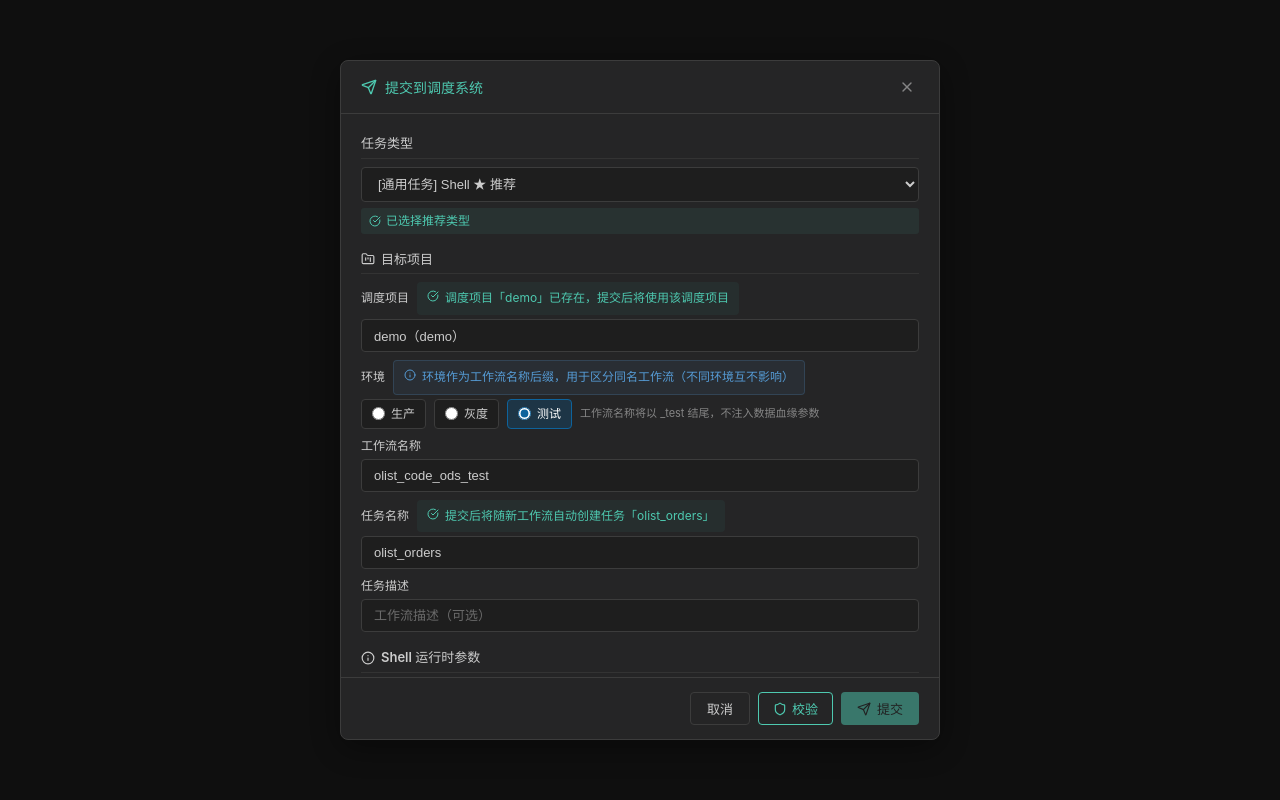
it: SubmitToSchedulerModal — 环境单选决定工作流名称后缀 › 切换环境后工作流名称换成对应后缀
This screenshot has width=1280, height=800.
Expected: the field with test id "submit-scheduler-workflow-name" holds "olist_code_ods_test", [361,459,919,492]
Click the radio button labelled "生产".
click(378, 414)  # box [372,407,385,420]
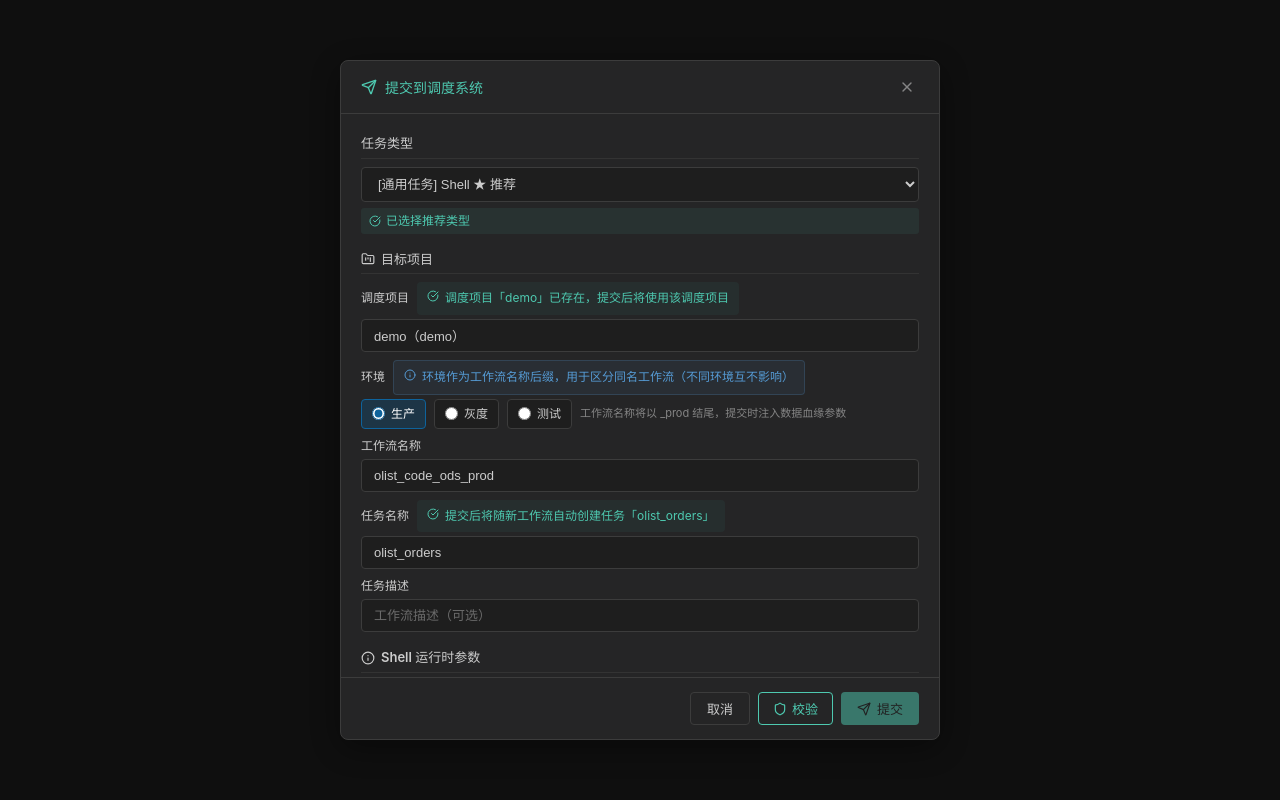
Expected: the field with test id "submit-scheduler-workflow-name" holds "olist_code_ods_prod", [361,459,919,492]
Click the radio button labelled "灰度".
click(452, 414)  # box [445,407,458,420]
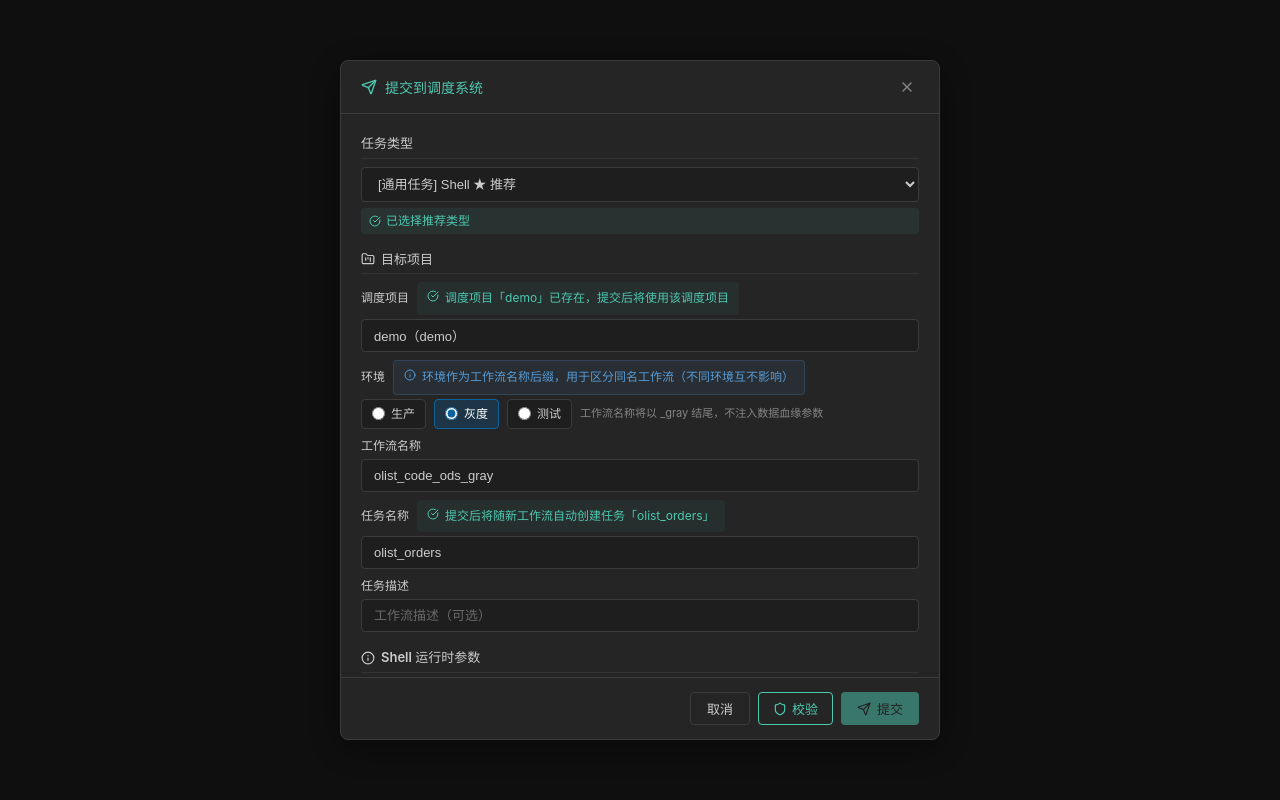
Expected: the field with test id "submit-scheduler-workflow-name" holds "olist_code_ods_gray", [361,459,919,492]
Click the radio button labelled "测试".
click(524, 414)  # box [518,407,531,420]
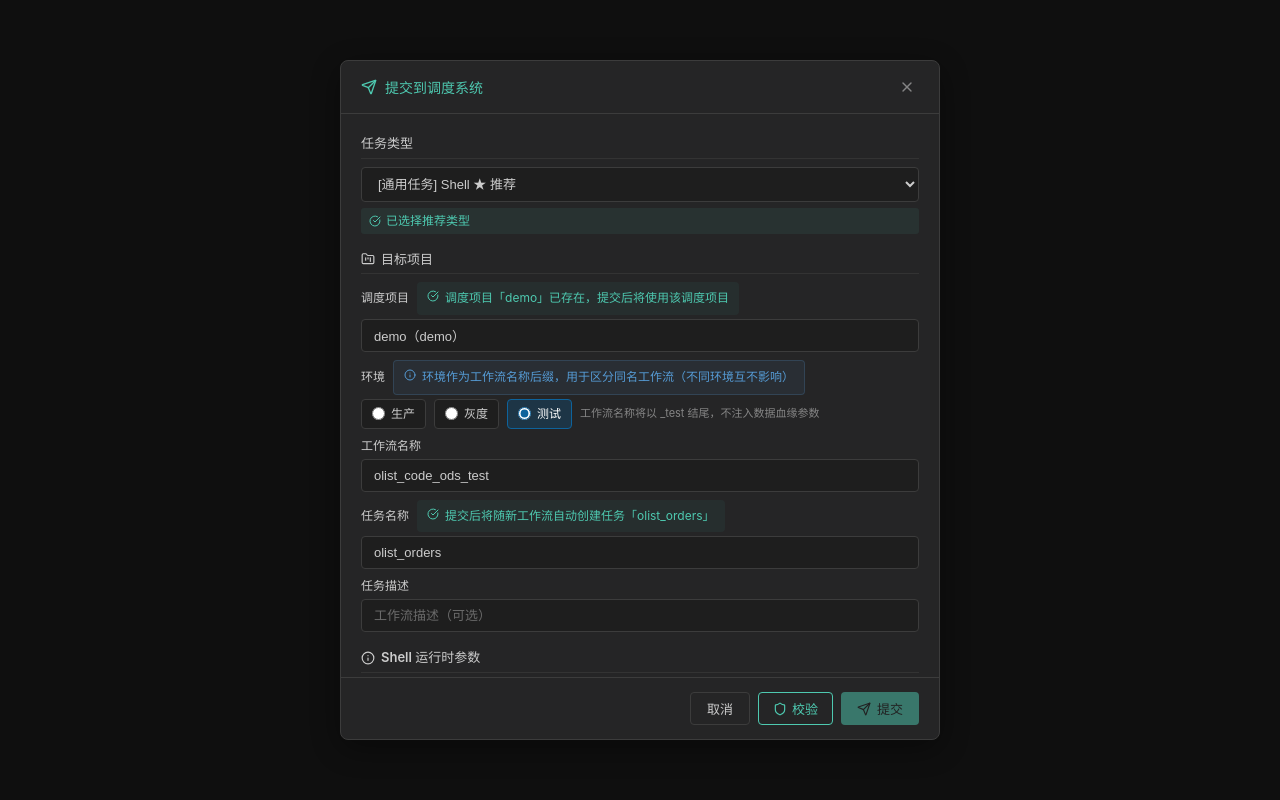
Expected: the field with test id "submit-scheduler-workflow-name" holds "olist_code_ods_test", [361,459,919,492]
